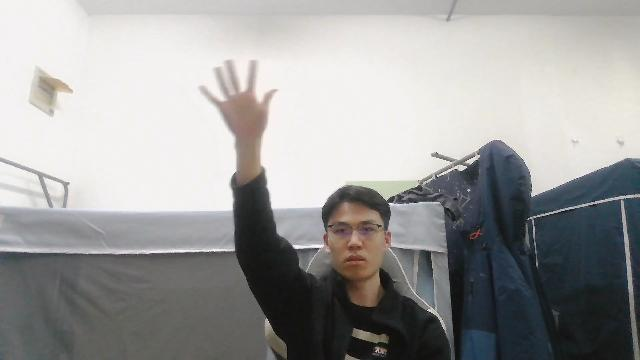five: (197, 58, 278, 153)
